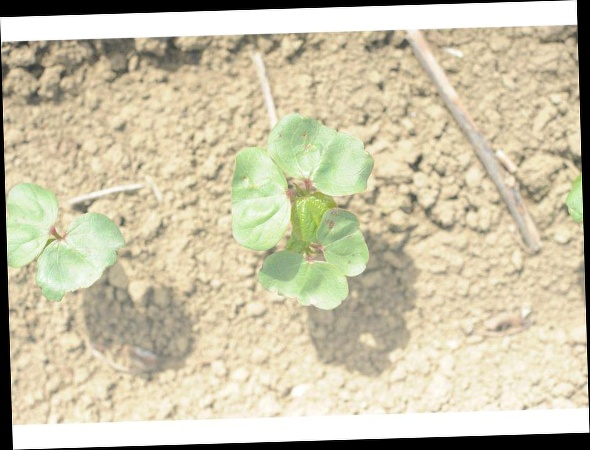cotton: (227, 112, 377, 313), (6, 179, 125, 304)
